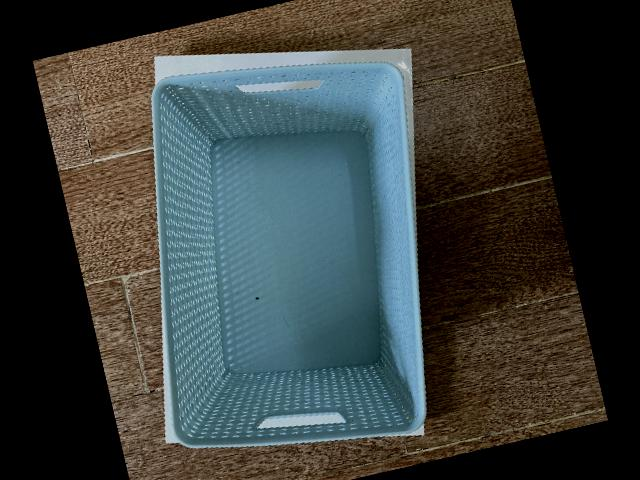cart: (153, 61, 426, 447)
